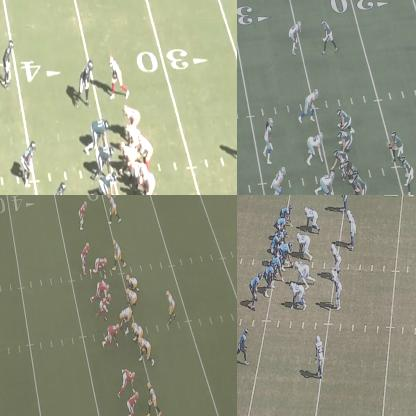CENTER: (332, 146, 347, 174), (120, 142, 130, 173), (118, 306, 132, 324), (282, 241, 292, 266)
DB: (314, 334, 324, 378), (290, 20, 301, 54), (5, 41, 13, 85), (127, 392, 138, 415), (78, 202, 86, 228), (341, 195, 349, 208)
LB: (22, 141, 34, 187), (263, 117, 273, 164), (272, 168, 285, 194), (347, 206, 355, 247), (332, 270, 341, 305), (82, 245, 90, 274), (332, 244, 340, 271), (101, 296, 110, 318), (54, 182, 64, 194)
QB: (389, 131, 403, 164), (139, 134, 153, 160), (166, 290, 175, 327), (271, 231, 281, 256)
SKILL: (78, 60, 93, 104), (109, 54, 122, 98), (401, 159, 415, 194), (324, 19, 338, 52), (237, 325, 249, 362), (148, 381, 161, 415), (107, 195, 119, 223), (250, 275, 259, 308), (282, 204, 294, 227), (113, 239, 122, 266)
